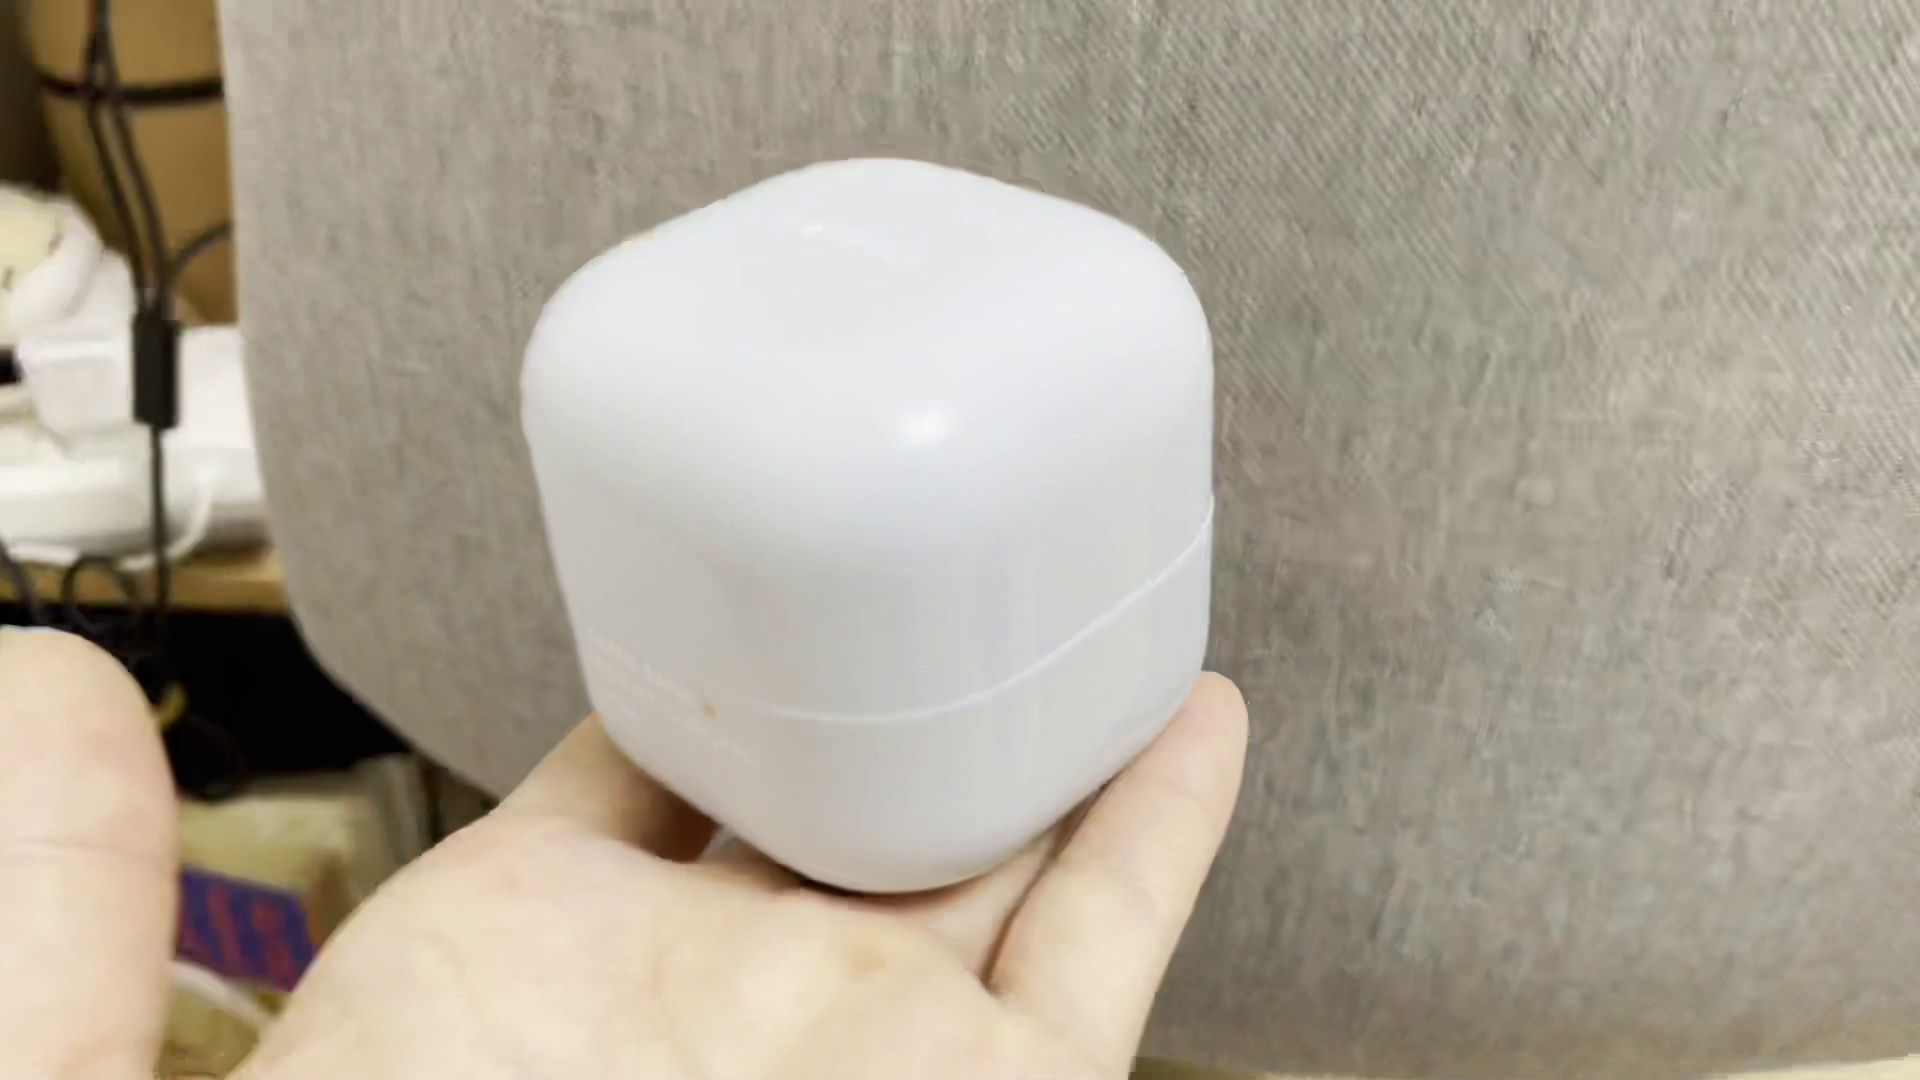cream: (520, 158, 1215, 894)
